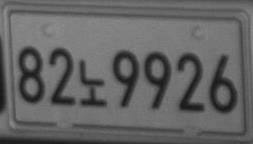2: (176, 52, 205, 112), (48, 46, 75, 105)
6: (209, 55, 237, 113)
8: (18, 45, 44, 103)
9: (112, 50, 140, 108), (143, 51, 171, 109)
노: (79, 60, 106, 106)
